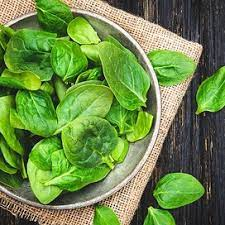spinach: (13, 22, 120, 177)
